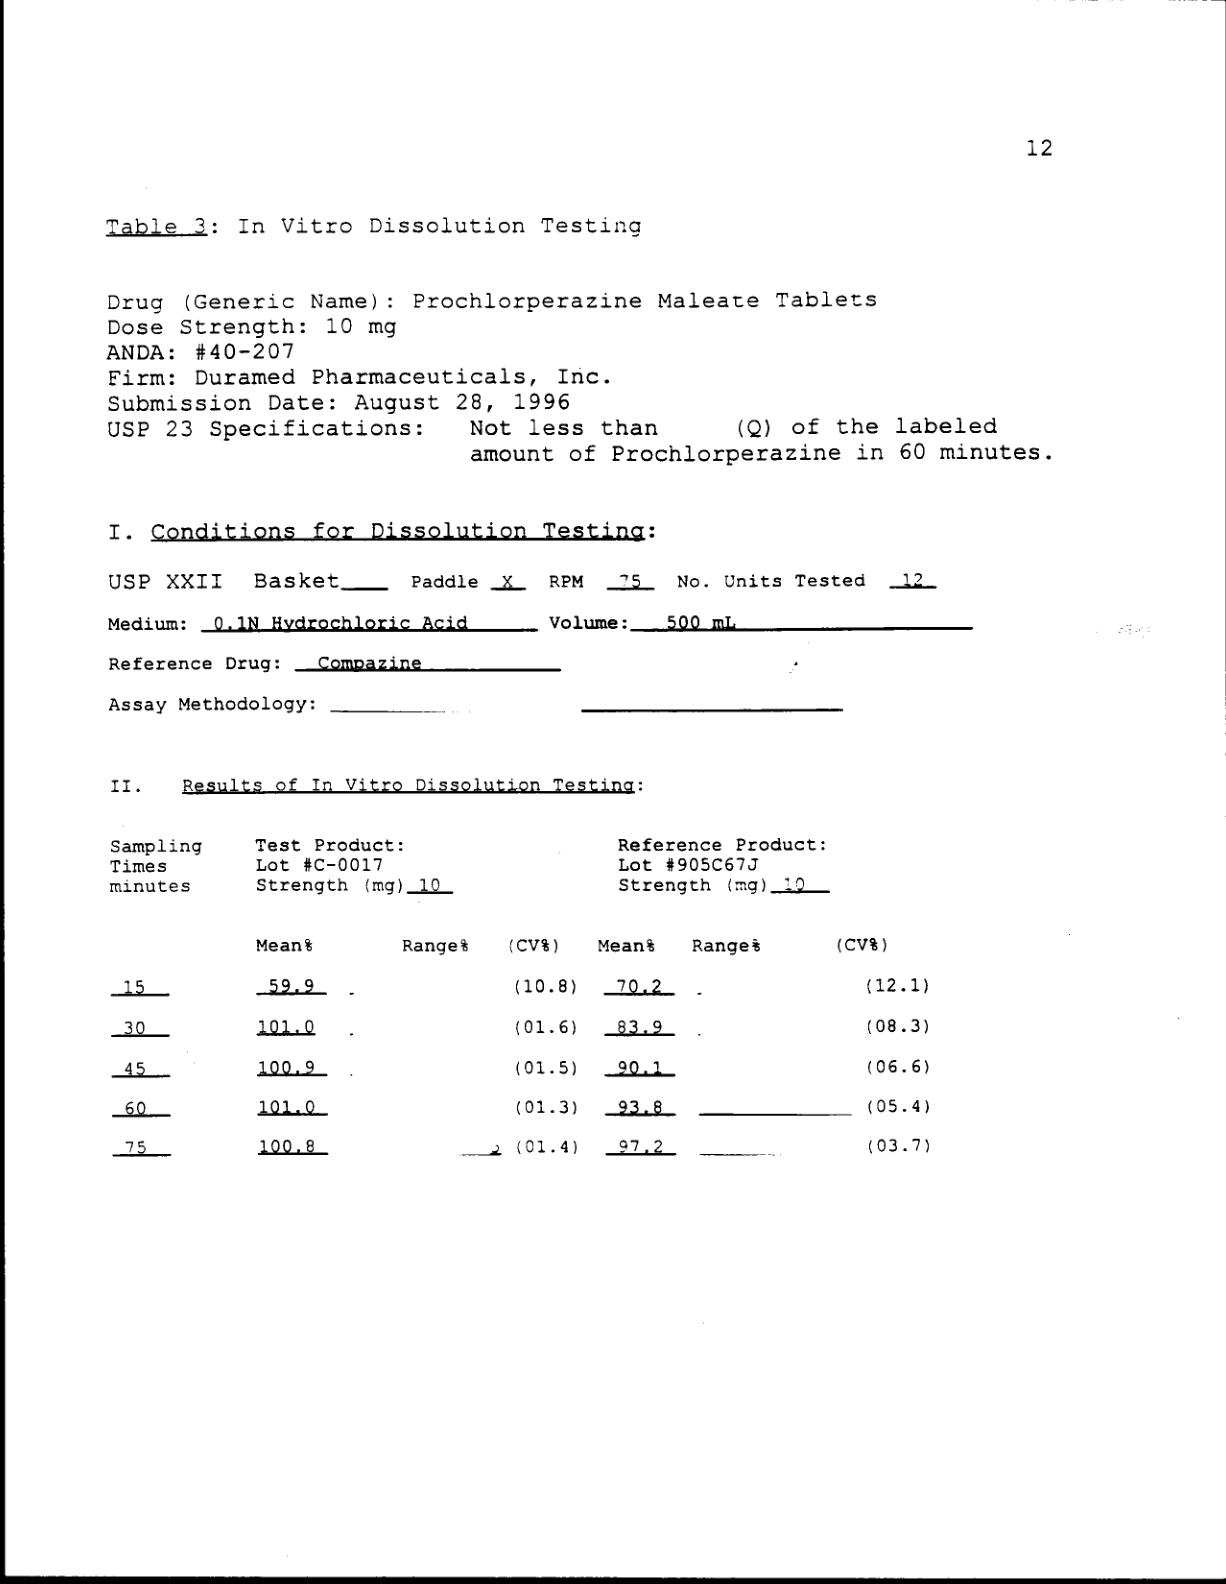nolines: (105, 936, 930, 1164), (105, 834, 837, 900)
